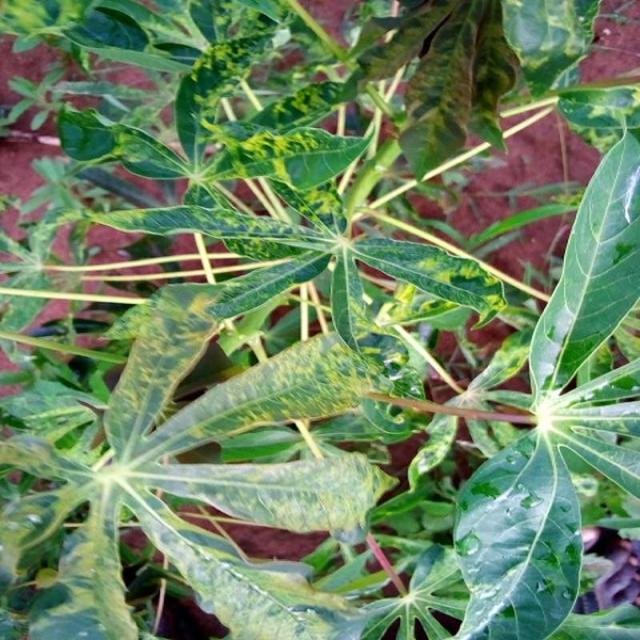cassava leaf: (1, 0, 638, 638), (528, 127, 638, 412), (451, 427, 583, 638)
